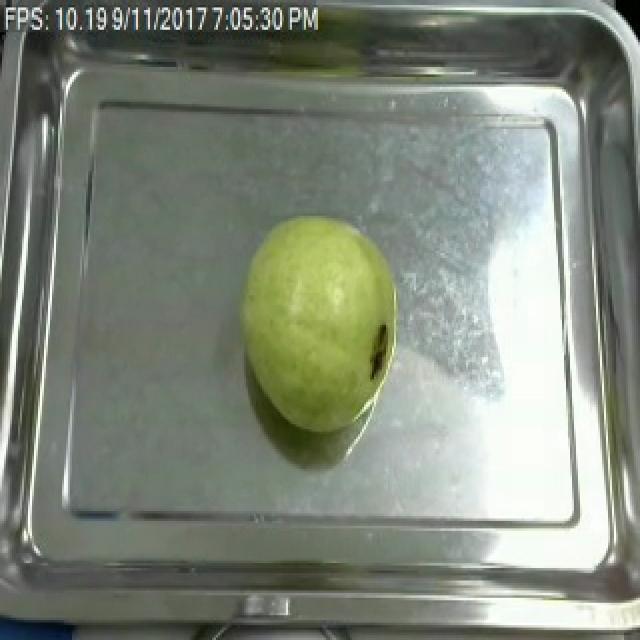Fruit: (234, 208, 404, 439)
